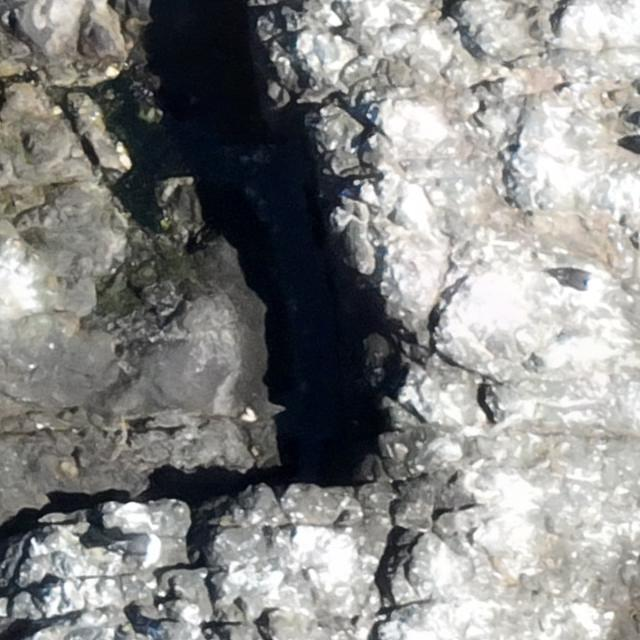umineko: (119, 535, 163, 556), (556, 269, 594, 289)
